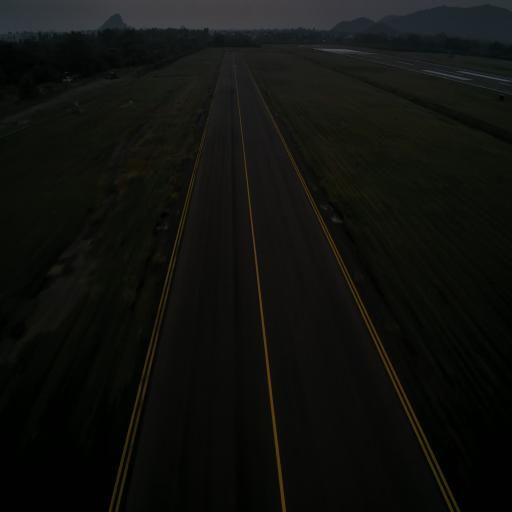on: (332, 211, 338, 220), (164, 219, 168, 228)
